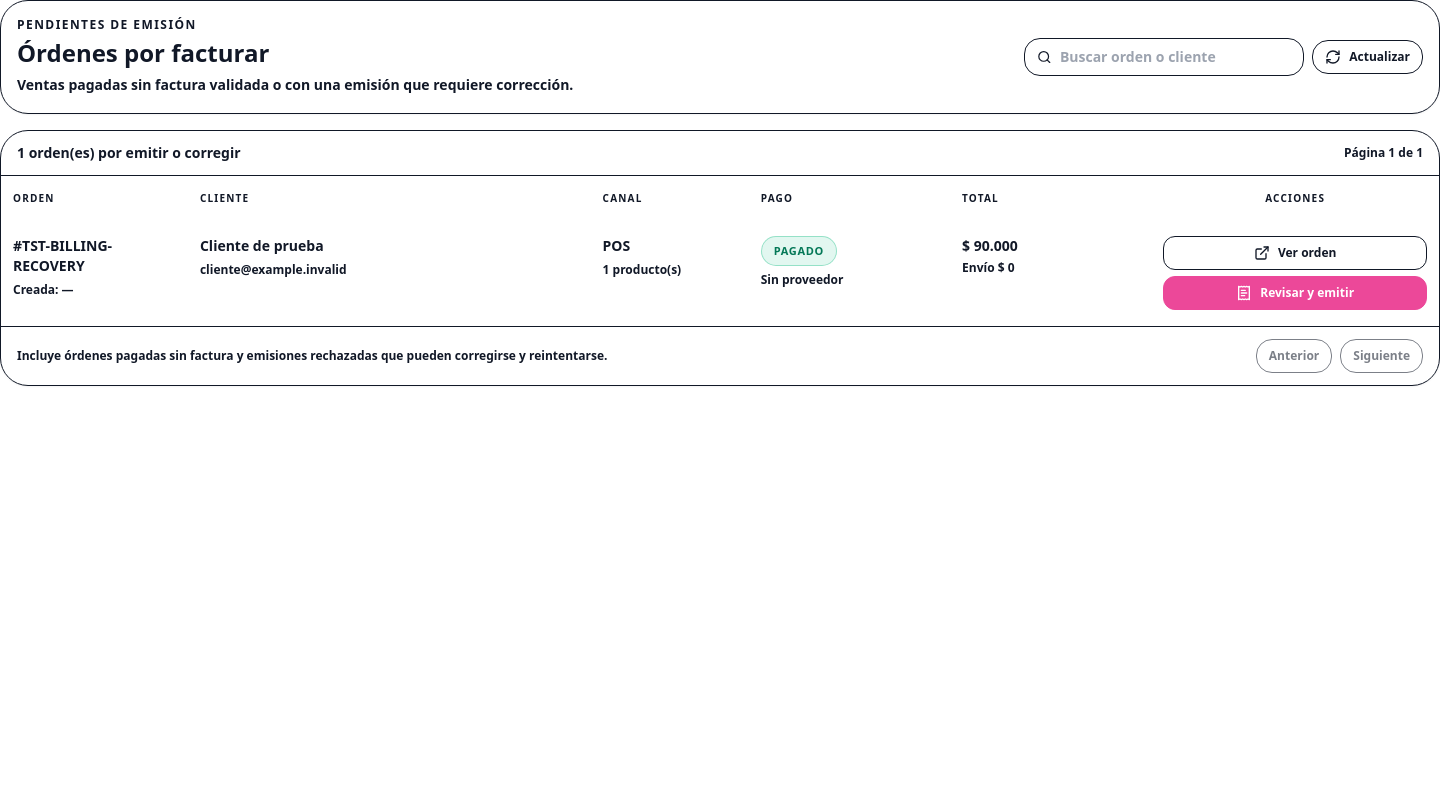
Scenario: BillingPendingOrdersPanel › abre Documentos filtrado por la factura después de una emisión exitosa
Click the button "Revisar y emitir" at (1295, 293), box top-left (1163, 276), bottom-right (1427, 310)
(page scrolled)
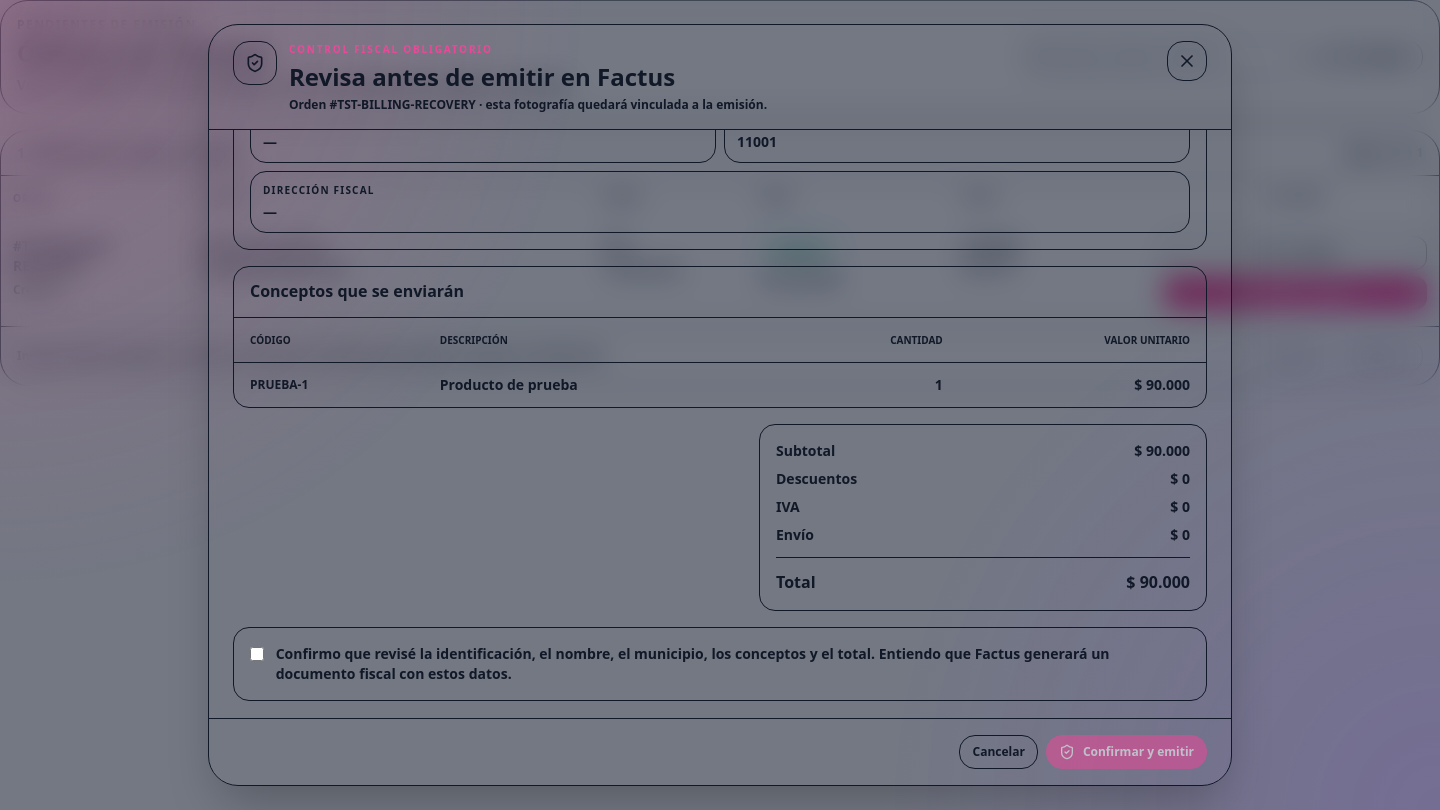
Click the checkbox at (257, 654), box top-left (250, 646), bottom-right (264, 662)
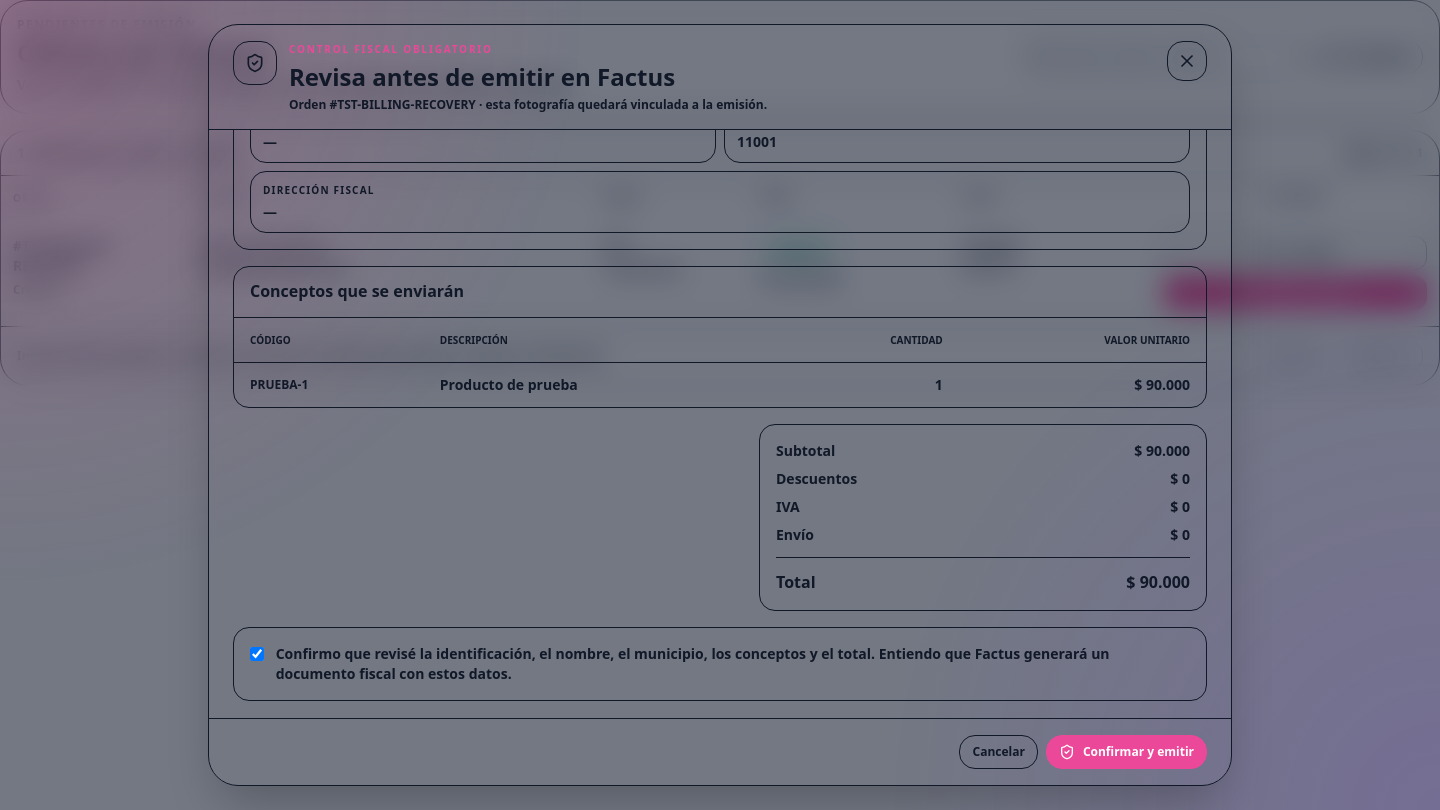
Click the button "Confirmar y emitir" at (1126, 752), box top-left (1046, 735), bottom-right (1207, 769)
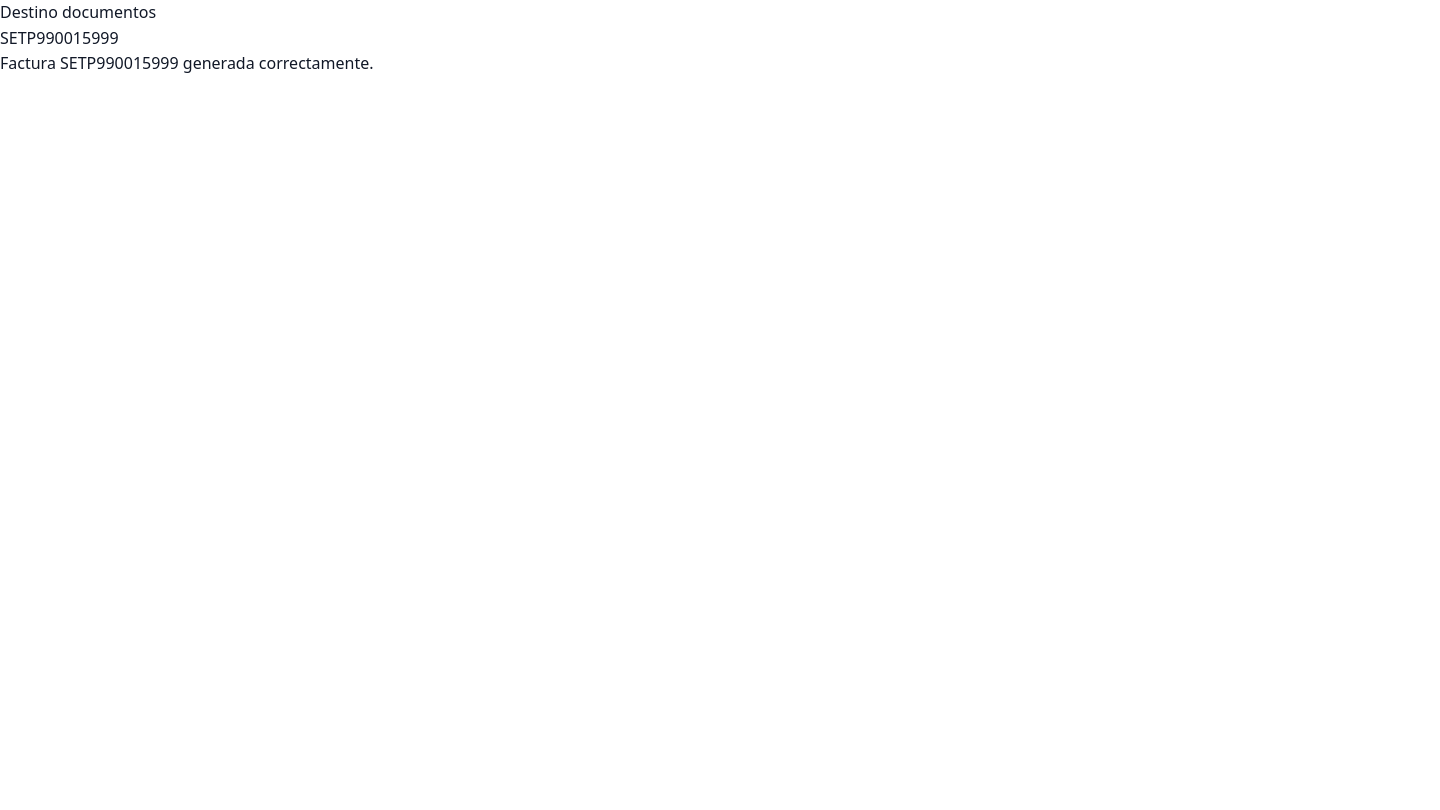
Result: the text "Destino documentos" is shown at top-left (0, 1), bottom-right (156, 23)
Result: the text "SETP990015999" is shown at top-left (0, 27), bottom-right (119, 49)
Result: the text "Factura SETP990015999 generada correctamente." is shown at top-left (0, 52), bottom-right (374, 74)
